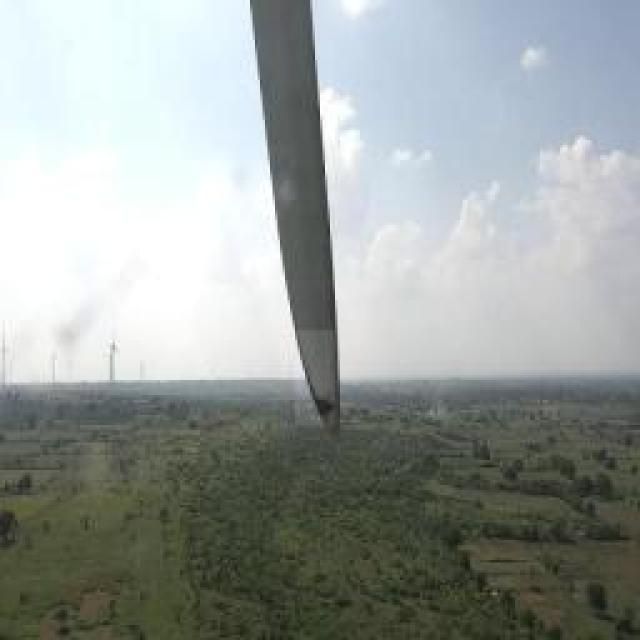Oil LEAKAGE: (301, 358, 336, 423)
